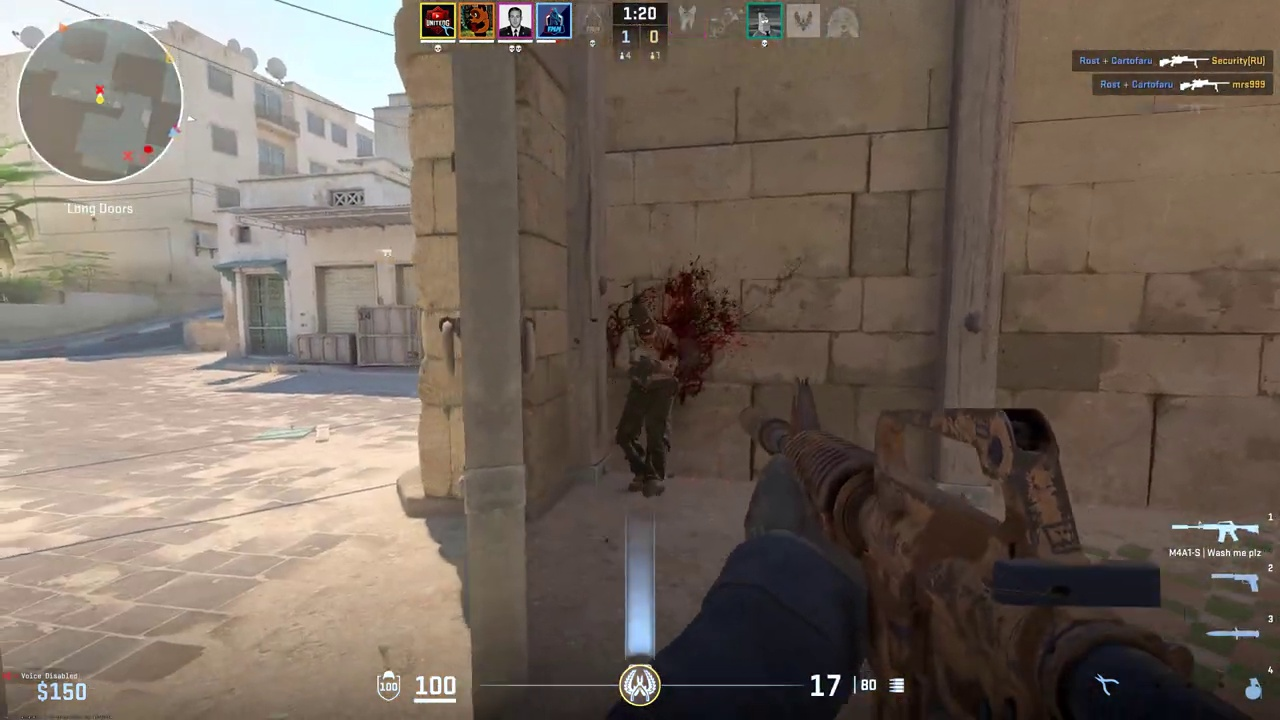Terrorist: (614, 303, 680, 494)
